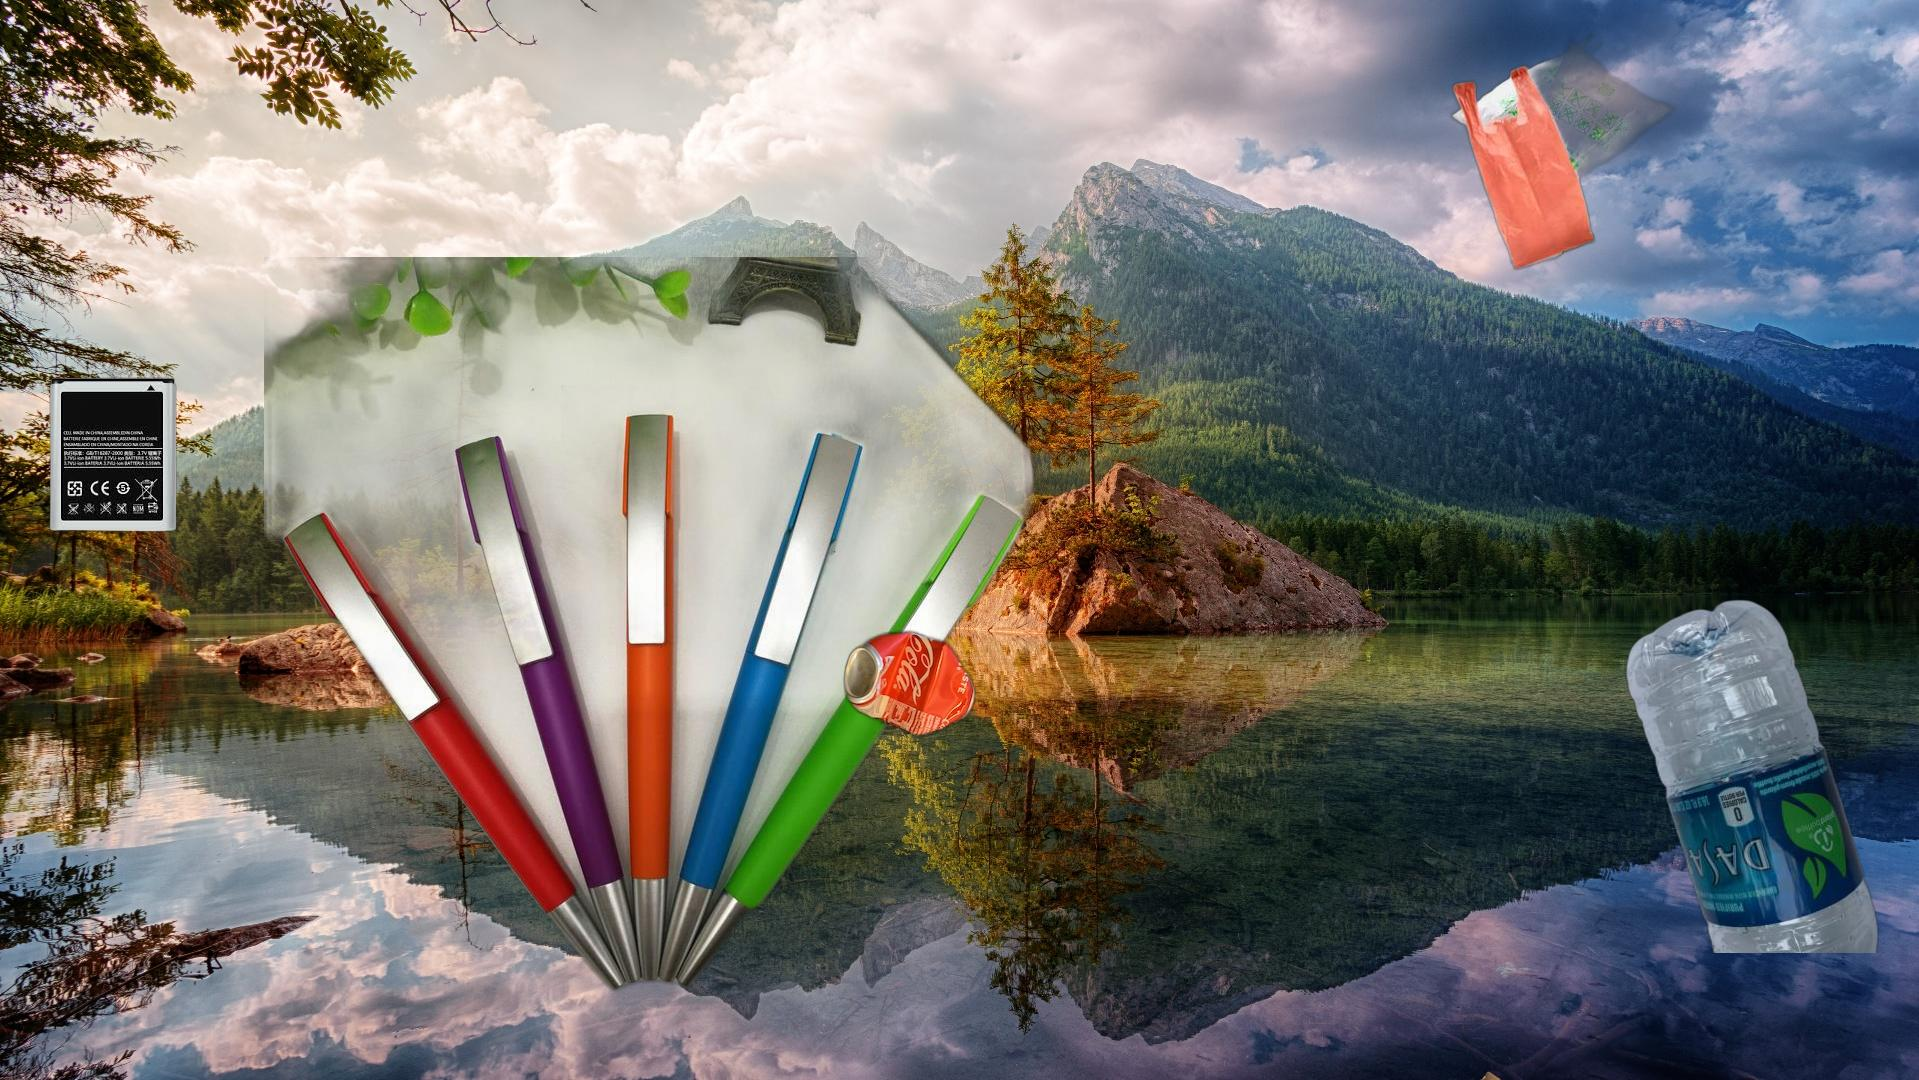battery: (47, 375, 179, 535)
metal-cans: (561, 385, 979, 742)
paper-bag: (1358, 1068, 1561, 1080)
penholder: (264, 257, 1064, 997)
plastic-bag: (1445, 5, 1680, 274)
plastic-bottles: (1622, 596, 1883, 953)
